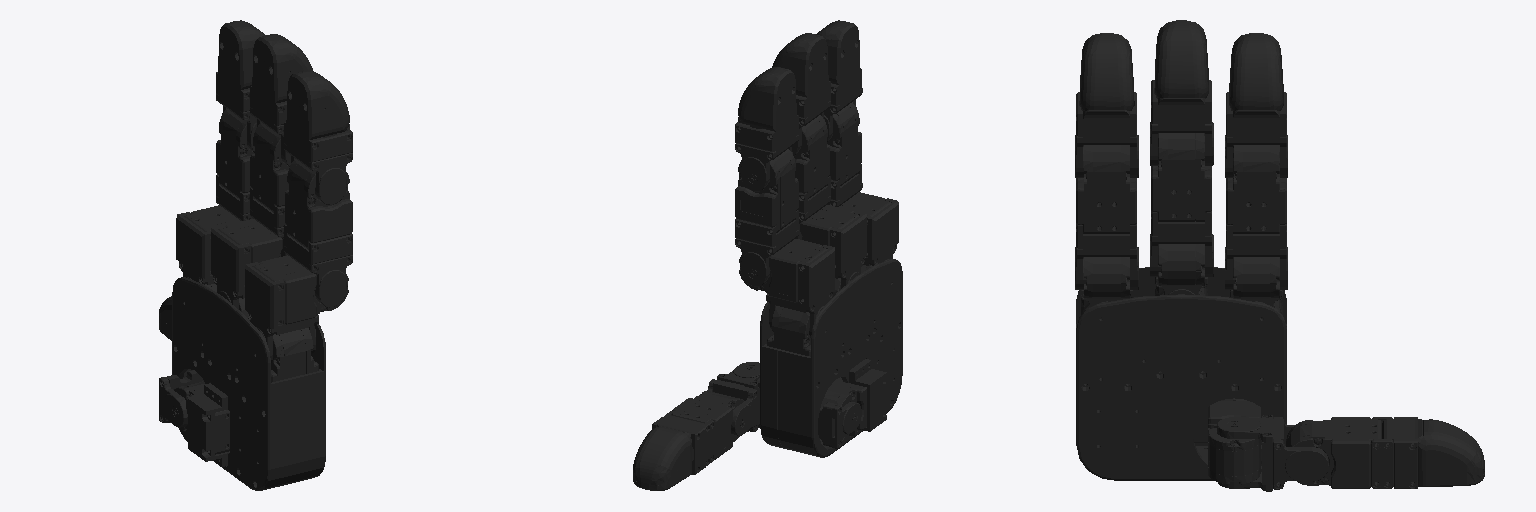
The robot description file, URDF, robot "hx4_d12_right":
<?xml version="1.0" encoding="UTF-8"?>
<robot name="hx4_d12_right">
   <link name="hx4_d12_right_base">
      <visual>
         <origin xyz="0 0 0" rpy="0 0 0" />
         <geometry>
            <mesh filename="package://hx4_d12/meshes/hx4_d12_base_unit.stl" scale="0.001 0.001 0.001" />
         </geometry>
         <material name="grey">
            <color rgba="0.2 0.2 0.2 1" />
         </material>
      </visual>
   </link>

   <!-- THUMB -->
   <joint name="finger_r_joint_1" type="revolute">
      <parent link="hx4_d12_right_base" />
      <child link="finger_r_link1" />
      <origin xyz="-0.011 0.019 0.01821" rpy="0 0 0" />
      <axis xyz="1 0 0" />
      <limit velocity="4.8" effort="1000" lower="-1.57" upper="1.57" />
      <dynamics damping="0.05" />
   </joint>
   <link name="finger_r_link1">
      <visual>
         <origin xyz="0 0 0" rpy="0 0 0" />
         <geometry>
            <mesh filename="package://hx4_d12/meshes/hx4_d12_thumb1.stl" scale="0.001 0.001 0.001" />
         </geometry>
         <material name="grey">
            <color rgba="0.2 0.2 0.2 1" />
         </material>
      </visual>
   </link>
   <joint name="finger_r_joint_2" type="revolute">
      <parent link="finger_r_link1" />
      <child link="finger_r_link2" />
      <origin xyz="0.039 0.0 0.0" rpy="0 0 0" />
      <axis xyz="0 0 1" />
      <limit velocity="4.8" effort="1000" lower="-1.57" upper="0.0" />
      <dynamics damping="0.05" />
   </joint>
   <link name="finger_r_link2">
      <visual>
         <origin xyz="0 0 0" rpy="0 0 0" />
         <geometry>
            <mesh filename="package://hx4_d12/meshes/hx4_d12_thumb2.stl" scale="0.001 0.001 0.001" />
         </geometry>
         <material name="grey">
            <color rgba="0.2 0.2 0.2 1" />
         </material>
      </visual>
   </link>
   <joint name="finger_r_joint_3" type="revolute">
      <parent link="finger_r_link2" />
      <child link="finger_r_link3" />
      <origin xyz="0.0 0.028 0.0" rpy="0 0 0" />
      <axis xyz="1 0 0" />
      <limit velocity="4.8" effort="1000" lower="0.0" upper="1.57" />
      <dynamics damping="0.05" />
   </joint>
   <link name="finger_r_link3">
      <visual>
         <origin xyz="0 0 0" rpy="0 0 0" />
         <geometry>
            <mesh filename="package://hx4_d12/meshes/hx4_d12_thumb3.stl" scale="0.001 0.001 0.001" />
         </geometry>
         <material name="grey">
            <color rgba="0.2 0.2 0.2 1" />
         </material>
      </visual>
   </link>

   <!-- INDEX -->
   <joint name="finger_r_joint_4" type="revolute">
      <parent link="hx4_d12_right_base" />
      <child link="finger_r_link4" />
      <origin xyz="0.0 0.027 0.061" rpy="0 0 0" />
      <axis xyz="1 0 0" />
      <limit velocity="4.8" effort="1000" lower="-0.6" upper="0.6" />
      <dynamics damping="0.05" />
   </joint>
   <link name="finger_r_link4">
      <visual>
         <origin xyz="0 0 0" rpy="0 0 0" />
         <geometry>
            <mesh filename="package://hx4_d12/meshes/hx4_d12_finger1.stl" scale="0.001 0.001 0.001" />
         </geometry>
         <material name="grey">
            <color rgba="0.2 0.2 0.2 1" />
         </material>
      </visual>
   </link>
   <joint name="finger_r_joint_5" type="revolute">
      <parent link="finger_r_link4" />
      <child link="finger_r_link5" />
      <origin xyz="0.016 0.0 0.0235" rpy="0 0 0" />
      <axis xyz="0 1 0" />
      <limit velocity="4.8" effort="1000" lower="0.0" upper="2.0" />
      <dynamics damping="0.05" />
   </joint>
   <link name="finger_r_link5">
      <visual>
         <origin xyz="0 0 0" rpy="0 0 0" />
         <geometry>
            <mesh filename="package://hx4_d12/meshes/hx4_d12_finger2.stl" scale="0.001 0.001 0.001" />
         </geometry>
         <material name="grey">
            <color rgba="0.2 0.2 0.2 1" />
         </material>
      </visual>
   </link>
   <joint name="finger_r_joint_6" type="revolute">
      <parent link="finger_r_link5" />
      <child link="finger_r_link6" />
      <origin xyz="0.0 0.0 0.0445" rpy="0 0 0" />
      <axis xyz="0 1 0" />
      <limit velocity="4.8" effort="1000" lower="0.0" upper="1.57" />
      <dynamics damping="0.05" />
   </joint>
   <link name="finger_r_link6">
      <visual>
         <origin xyz="0 0 0" rpy="0 0 0" />
         <geometry>
            <mesh filename="package://hx4_d12/meshes/hx4_d12_finger3.stl" scale="0.001 0.001 0.001" />
         </geometry>
         <material name="grey">
            <color rgba="0.2 0.2 0.2 1" />
         </material>
      </visual>
   </link>

   <!-- MIDDLE -->
   <joint name="finger_r_joint_7" type="revolute">
      <parent link="hx4_d12_right_base" />
      <child link="finger_r_link7" />
      <origin xyz="0.0 0.0 0.066" rpy="0 0 0" />
      <axis xyz="1 0 0" />
      <limit velocity="4.8" effort="1000" lower="-0.6" upper="0.6" />
      <dynamics damping="0.05" />
   </joint>
   <link name="finger_r_link7">
      <visual>
         <origin xyz="0 0 0" rpy="0 0 0" />
         <geometry>
            <mesh filename="package://hx4_d12/meshes/hx4_d12_finger1.stl" scale="0.001 0.001 0.001" />
         </geometry>
         <material name="grey">
            <color rgba="0.2 0.2 0.2 1" />
         </material>
      </visual>
   </link>
   <joint name="finger_r_joint_8" type="revolute">
      <parent link="finger_r_link7" />
      <child link="finger_r_link8" />
      <origin xyz="0.016 0.0 0.0235" rpy="0 0 0" />
      <axis xyz="0 1 0" />
      <limit velocity="4.8" effort="1000" lower="0.0" upper="2.0" />
      <dynamics damping="0.05" />
   </joint>
   <link name="finger_r_link8">
      <visual>
         <origin xyz="0 0 0" rpy="0 0 0" />
         <geometry>
            <mesh filename="package://hx4_d12/meshes/hx4_d12_finger2.stl" scale="0.001 0.001 0.001" />
         </geometry>
         <material name="grey">
            <color rgba="0.2 0.2 0.2 1" />
         </material>
      </visual>
   </link>
   <joint name="finger_r_joint_9" type="revolute">
      <parent link="finger_r_link8" />
      <child link="finger_r_link9" />
      <origin xyz="0.0 0.0 0.0445" rpy="0 0 0" />
      <axis xyz="0 1 0" />
      <limit velocity="4.8" effort="1000" lower="0.0" upper="1.57" />
      <dynamics damping="0.05" />
   </joint>
   <link name="finger_r_link9">
      <visual>
         <origin xyz="0 0 0" rpy="0 0 0" />
         <geometry>
            <mesh filename="package://hx4_d12/meshes/hx4_d12_finger3.stl" scale="0.001 0.001 0.001" />
         </geometry>
         <material name="grey">
            <color rgba="0.2 0.2 0.2 1" />
         </material>
      </visual>
   </link>

   <!-- RING -->
   <joint name="finger_r_joint_10" type="revolute">
      <parent link="hx4_d12_right_base" />
      <child link="finger_r_link10" />
      <origin xyz="0.0 -0.027 0.061" rpy="0 0 0" />
      <axis xyz="1 0 0" />
      <limit velocity="4.8" effort="1000" lower="-0.6" upper="0.6" />
      <dynamics damping="0.05" />
   </joint>
   <link name="finger_r_link10">
      <visual>
         <origin xyz="0 0 0" rpy="0 0 0" />
         <geometry>
            <mesh filename="package://hx4_d12/meshes/hx4_d12_finger1.stl" scale="0.001 0.001 0.001" />
         </geometry>
         <material name="grey">
            <color rgba="0.2 0.2 0.2 1" />
         </material>
      </visual>
   </link>
   <joint name="finger_r_joint_11" type="revolute">
      <parent link="finger_r_link10" />
      <child link="finger_r_link11" />
      <origin xyz="0.016 0.0 0.0235" rpy="0 0 0" />
      <axis xyz="0 1 0" />
      <limit velocity="4.8" effort="1000" lower="0.0" upper="2.0" />
      <dynamics damping="0.05" />
   </joint>
   <link name="finger_r_link11">
      <visual>
         <origin xyz="0 0 0" rpy="0 0 0" />
         <geometry>
            <mesh filename="package://hx4_d12/meshes/hx4_d12_finger2.stl" scale="0.001 0.001 0.001" />
         </geometry>
         <material name="grey">
            <color rgba="0.2 0.2 0.2 1" />
         </material>
      </visual>
   </link>
   <joint name="finger_r_joint_12" type="revolute">
      <parent link="finger_r_link11" />
      <child link="finger_r_link12" />
      <origin xyz="0.0 0.0 0.0445" rpy="0 0 0" />
      <axis xyz="0 1 0" />
      <limit velocity="4.8" effort="1000" lower="0.0" upper="1.57" />
      <dynamics damping="0.05" />
   </joint>
   <link name="finger_r_link12">
      <visual>
         <origin xyz="0 0 0" rpy="0 0 0" />
         <geometry>
            <mesh filename="package://hx4_d12/meshes/hx4_d12_finger3.stl" scale="0.001 0.001 0.001" />
         </geometry>
         <material name="grey">
            <color rgba="0.2 0.2 0.2 1" />
         </material>
      </visual>
   </link>
</robot>

--- Facts derived from the render (not from the file) ---
Views: 3 orthographic renders of the robot side by side, from view 1: azimuth 30°, elevation 25°; view 2: azimuth 150°, elevation 25°; view 3: azimuth 270°, elevation 25°.
Model hx4_d12_right with 13 links and 12 joints (12 revolute), rooted at hx4_d12_right_base, posed all joints at 0.
Links seen in each view (by area): view 1: hx4_d12_right_base, finger_r_link11, finger_r_link12, finger_r_link10, finger_r_link9, finger_r_link7, finger_r_link6, finger_r_link8, finger_r_link5, finger_r_link4, finger_r_link1; view 2: hx4_d12_right_base, finger_r_link3, finger_r_link5, finger_r_link6, finger_r_link4, finger_r_link9, finger_r_link7, finger_r_link12, finger_r_link8, finger_r_link11, finger_r_link10, finger_r_link2 (+1 smaller); view 3: hx4_d12_right_base, finger_r_link3, finger_r_link11, finger_r_link5, finger_r_link8, finger_r_link9, finger_r_link12, finger_r_link6, finger_r_link2, finger_r_link1, finger_r_link7, finger_r_link4 (+1 smaller).
Boxes of the visible links, x1=… form: hx4_d12_right_base: x1=172, y1=277, x2=325, y2=490; finger_r_link11: x1=284, y1=159, x2=352, y2=307; finger_r_link12: x1=284, y1=71, x2=352, y2=204; finger_r_link10: x1=245, y1=255, x2=348, y2=362; finger_r_link9: x1=250, y1=34, x2=312, y2=166; finger_r_link7: x1=211, y1=219, x2=282, y2=309; finger_r_link6: x1=216, y1=20, x2=265, y2=152; finger_r_link8: x1=250, y1=122, x2=289, y2=256; finger_r_link5: x1=216, y1=109, x2=254, y2=220; finger_r_link4: x1=176, y1=205, x2=241, y2=284; finger_r_link1: x1=159, y1=370, x2=203, y2=427; hx4_d12_right_base: x1=760, y1=259, x2=902, y2=457; finger_r_link3: x1=633, y1=391, x2=743, y2=490; finger_r_link5: x1=735, y1=149, x2=798, y2=286; finger_r_link6: x1=735, y1=67, x2=798, y2=191; finger_r_link4: x1=739, y1=239, x2=834, y2=337; finger_r_link9: x1=772, y1=33, x2=830, y2=155; finger_r_link7: x1=800, y1=205, x2=866, y2=288; finger_r_link12: x1=816, y1=20, x2=862, y2=141; finger_r_link8: x1=794, y1=115, x2=830, y2=239; finger_r_link11: x1=827, y1=102, x2=862, y2=206; finger_r_link10: x1=839, y1=192, x2=898, y2=265; finger_r_link2: x1=699, y1=362, x2=759, y2=435; hx4_d12_right_base: x1=1076, y1=267, x2=1286, y2=480; finger_r_link3: x1=1286, y1=417, x2=1484, y2=488; finger_r_link11: x1=1075, y1=145, x2=1138, y2=289; finger_r_link5: x1=1225, y1=145, x2=1287, y2=289; finger_r_link8: x1=1150, y1=133, x2=1213, y2=276; finger_r_link9: x1=1150, y1=20, x2=1213, y2=165; finger_r_link12: x1=1075, y1=33, x2=1138, y2=177; finger_r_link6: x1=1225, y1=33, x2=1287, y2=177; finger_r_link2: x1=1217, y1=415, x2=1328, y2=491; finger_r_link1: x1=1208, y1=398, x2=1267, y2=484; finger_r_link7: x1=1155, y1=244, x2=1207, y2=294; finger_r_link4: x1=1230, y1=257, x2=1282, y2=318.
Size in the robot's own frame: 0.063 by 0.148 by 0.181 metres.
13 mesh visuals loaded from 7 distinct referenced files (7 binary STL).
